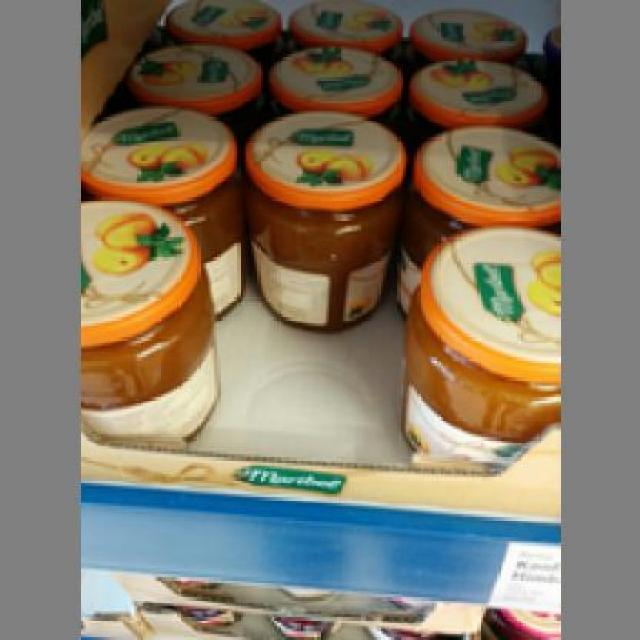Jam: (394, 217, 557, 474), (243, 108, 406, 332), (77, 197, 220, 443), (77, 106, 234, 312)
